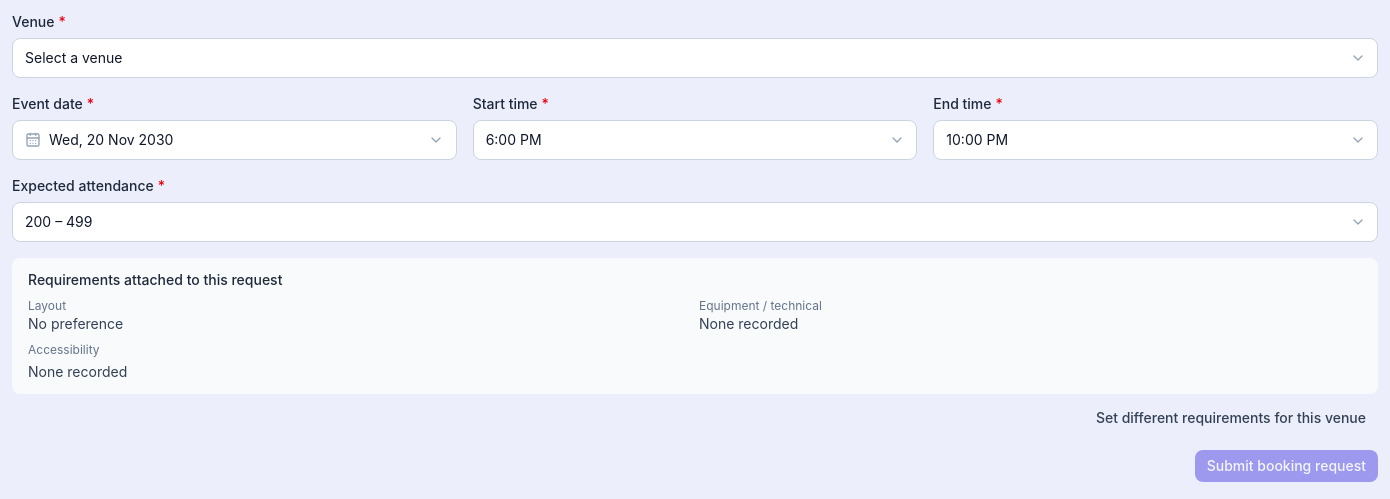
Test: Capacity AC-1/AC-2: the Coordinator can only submit a request the venue can hold › Capacity AC-1: allows a venue with room to spare
Select "Campus Green (capacity 600)" in the dropdown labelled "Venue*": coordinates (695, 58) [12, 38, 1378, 78]
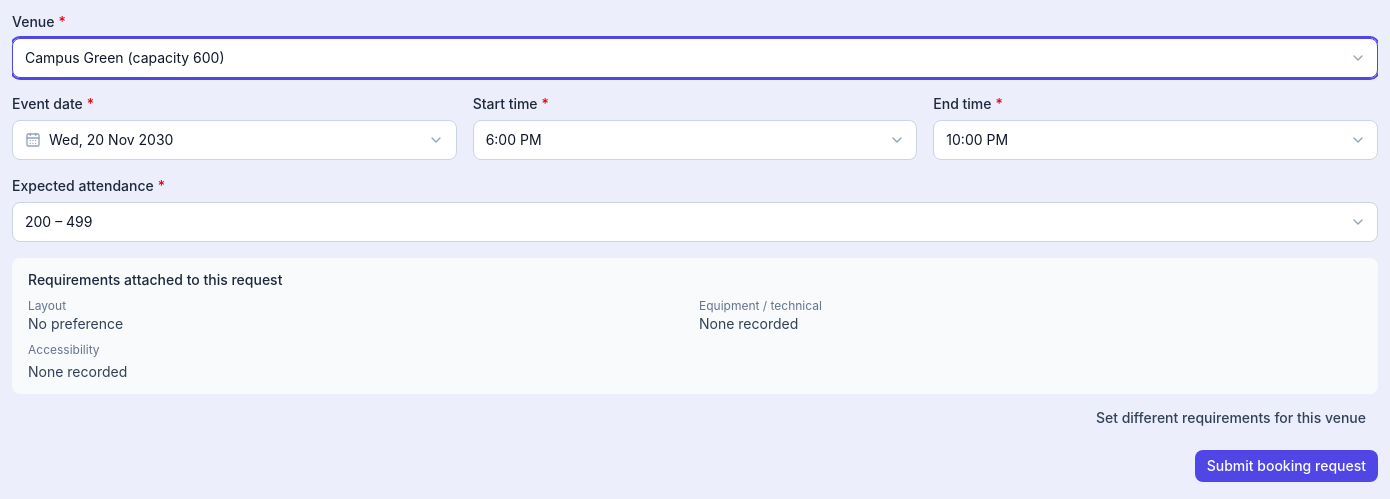
Result: the button "Submit booking request" is enabled at [1195, 450, 1378, 482]
